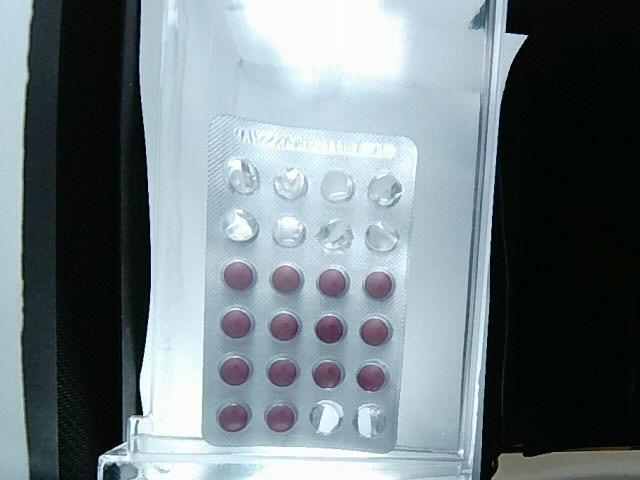Light Front: (200, 116, 419, 455)
No Pill Front: (315, 219, 353, 250), (225, 158, 258, 193), (224, 209, 259, 242), (368, 173, 401, 207), (310, 400, 343, 434), (321, 170, 354, 202), (354, 404, 385, 438), (274, 168, 307, 199), (274, 216, 306, 247), (365, 221, 397, 251)
Pill Front: (223, 260, 256, 290), (270, 264, 303, 294), (220, 308, 253, 338), (316, 268, 349, 297), (315, 314, 346, 344), (269, 311, 301, 340), (266, 358, 298, 387), (360, 316, 391, 345), (218, 404, 250, 432), (363, 270, 394, 298), (313, 360, 344, 388), (219, 356, 250, 384), (265, 404, 296, 432), (356, 363, 386, 391)
